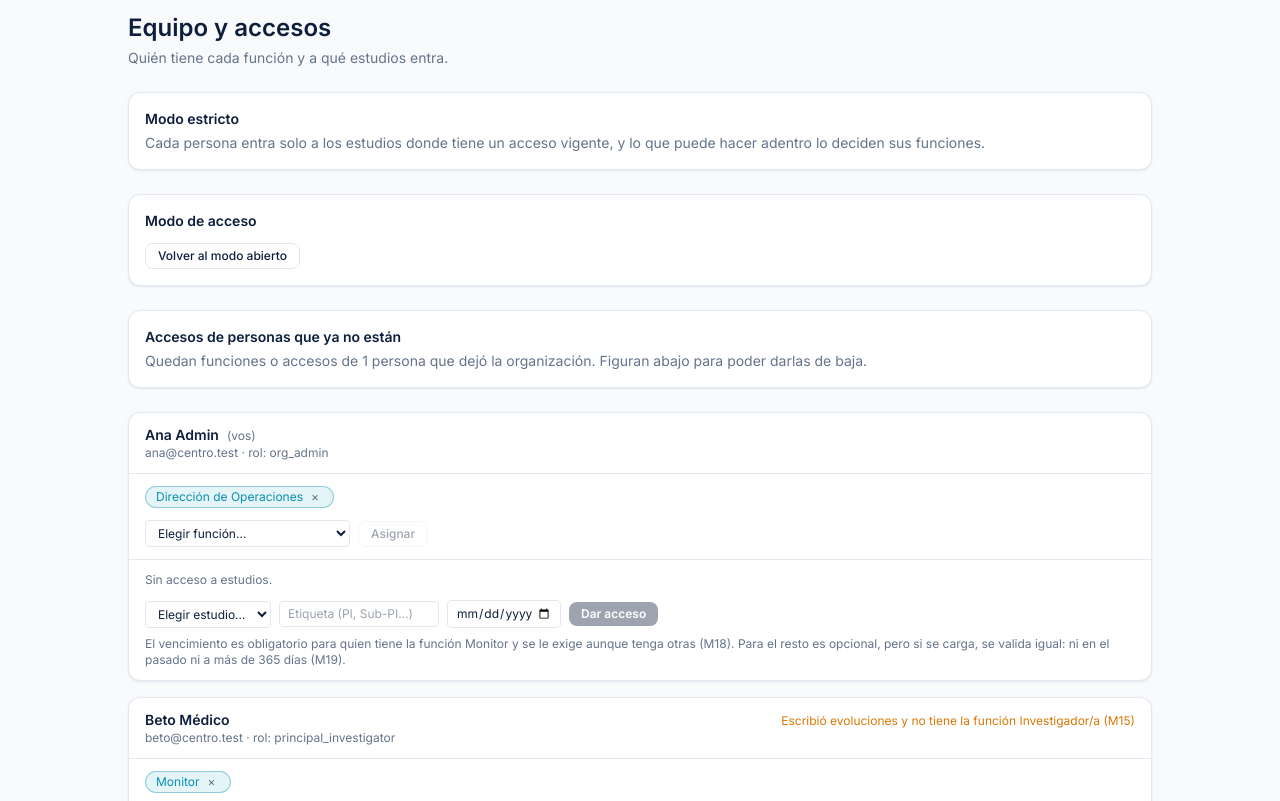
Test: TeamAccessScreen — acciones › quitar una función: DELETE a functions con persona y función
Click the button "×" next to "Dirección de Operaciones".
click(315, 497)  # box [307, 489, 323, 505]
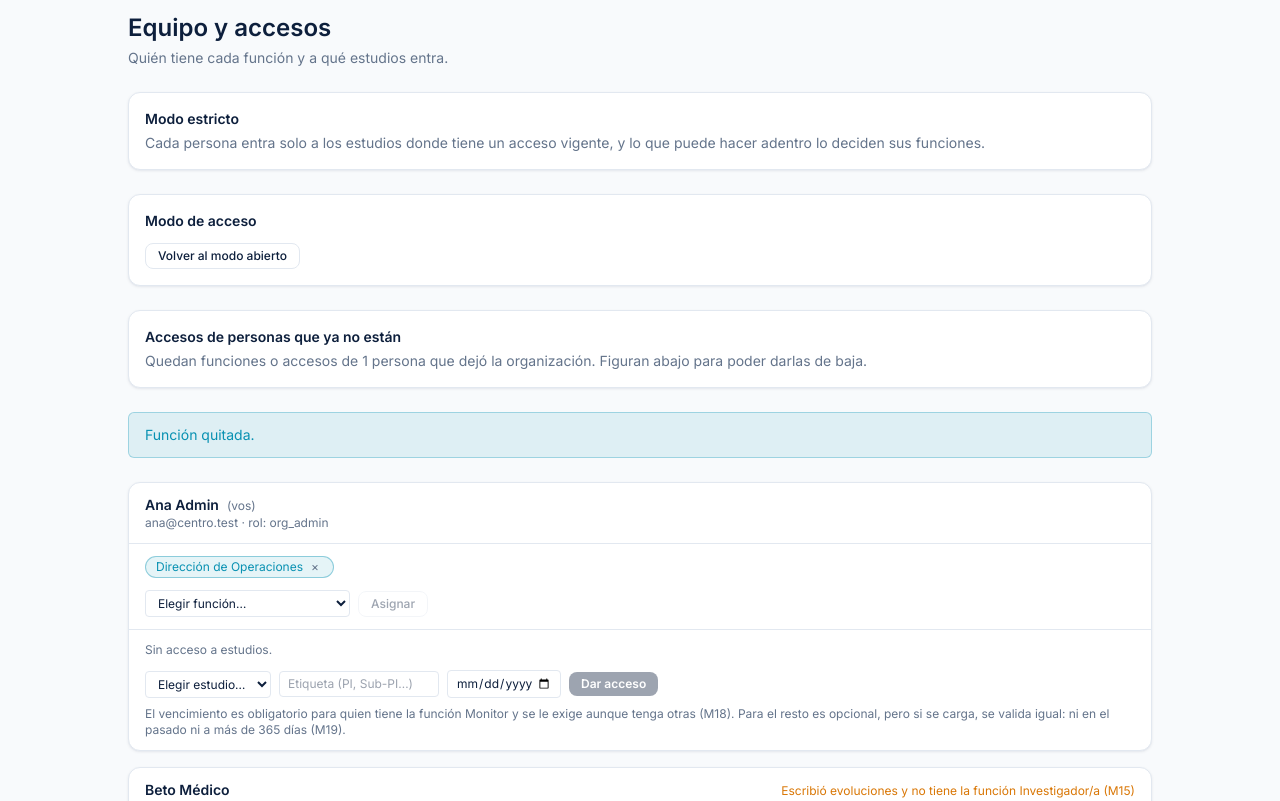
Now the text "Función quitada." is shown, box [128, 412, 1152, 458]
